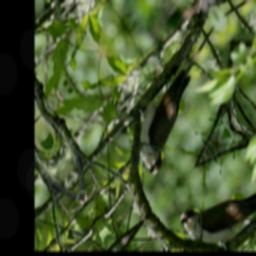Cuckoo: (118, 23, 249, 180)
